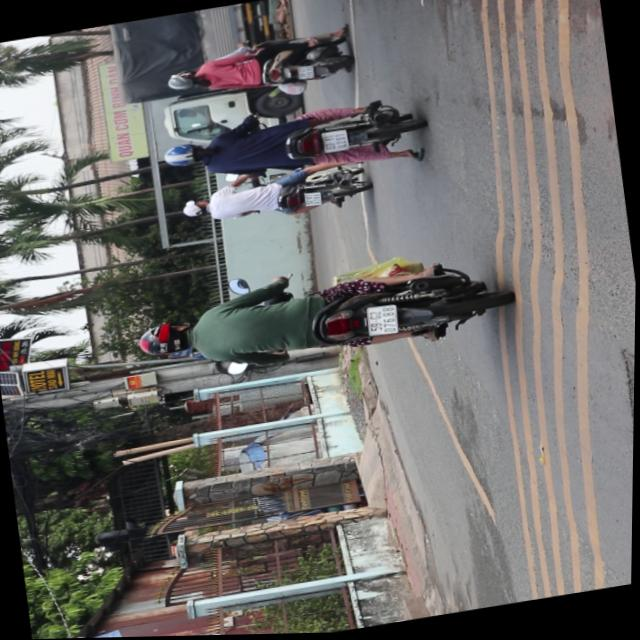helmet: (136, 320, 195, 362), (162, 141, 210, 172), (165, 69, 201, 94)
licenseplate: (130, 242, 507, 394), (158, 91, 430, 198), (163, 28, 358, 109), (178, 160, 374, 235)
motorcyclist: (181, 197, 211, 221)
nohelmet: (366, 305, 400, 338), (321, 131, 348, 154), (305, 192, 323, 208), (296, 66, 315, 81)
